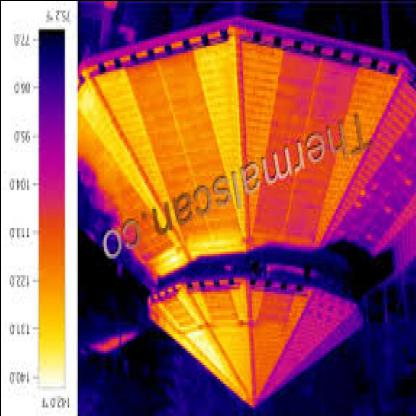Defects: (194, 333, 244, 395)
